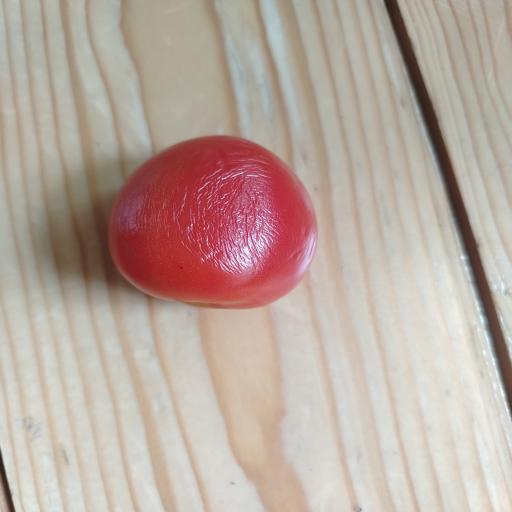spoiled: (109, 136, 317, 308)
